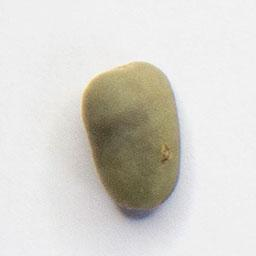peaberry: (77, 58, 184, 213)
